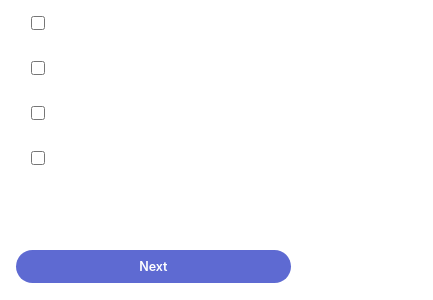
Test: OnboardingFlow › advances to privacy notice on Next
The image size is (433, 300).
Click the button "Next" at (153, 266), box [16,250,291,282]
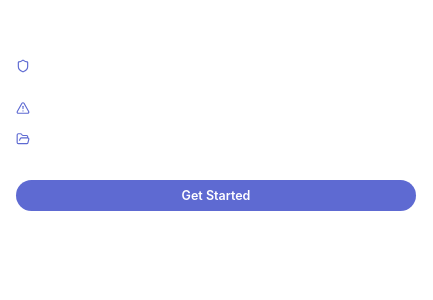
Expected: the element with test id "privacy-notice" is shown, [16,17,416,211]
